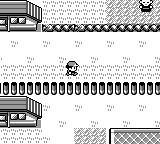main: (66, 61, 79, 76)
no-caminable: (1, 81, 159, 95), (0, 0, 41, 31), (0, 96, 41, 126), (111, 128, 159, 143)
npc: (139, 0, 153, 12)
puerta: (0, 17, 8, 31), (0, 113, 8, 127)
salto: (42, 24, 160, 32)
